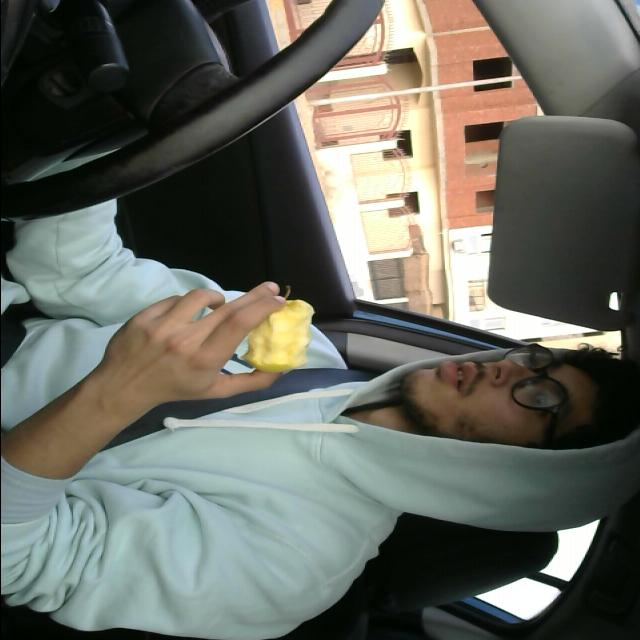eating: (238, 287, 323, 375)
